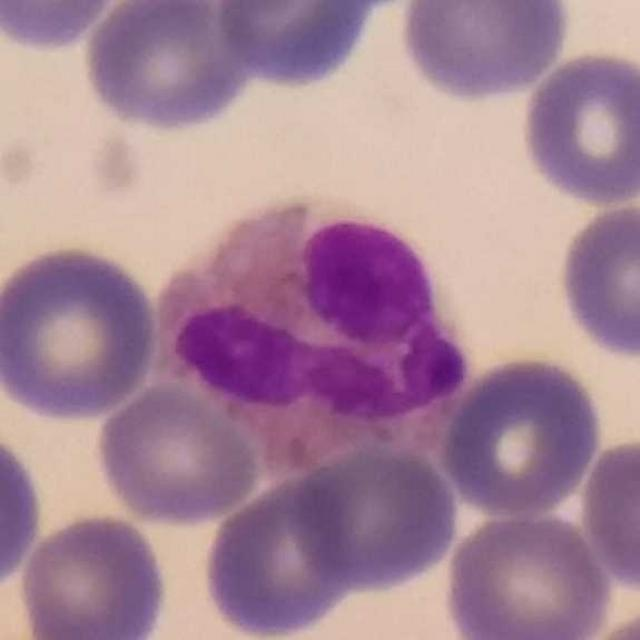Eosinophil: (160, 195, 472, 456)
RBC: (0, 239, 164, 424), (438, 350, 606, 520), (198, 468, 361, 640), (288, 441, 463, 595), (92, 379, 264, 528), (77, 0, 260, 135), (440, 507, 614, 640), (15, 510, 172, 640), (516, 46, 640, 210), (209, 0, 411, 95), (396, 0, 574, 106), (553, 200, 640, 363), (577, 433, 640, 596), (0, 423, 47, 597), (0, 0, 126, 55)
